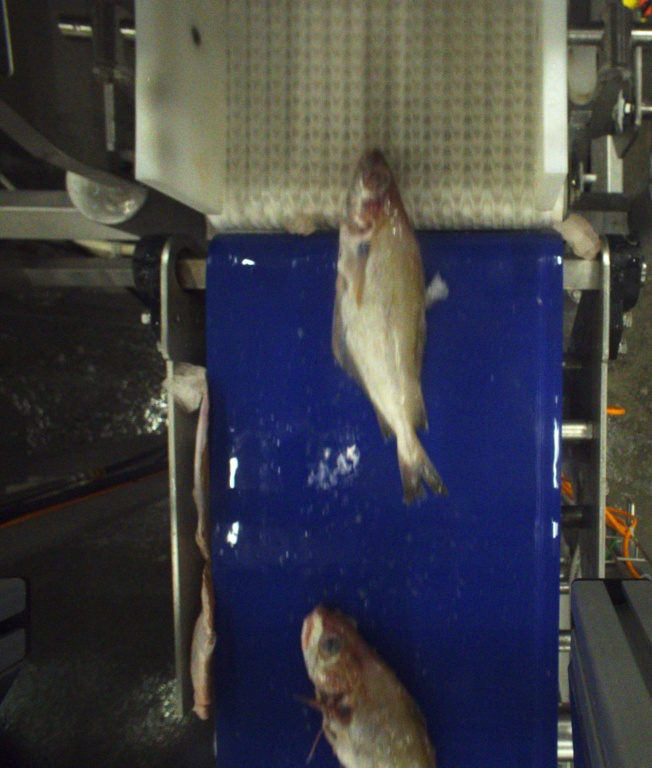BIB: (300, 607, 438, 768)
